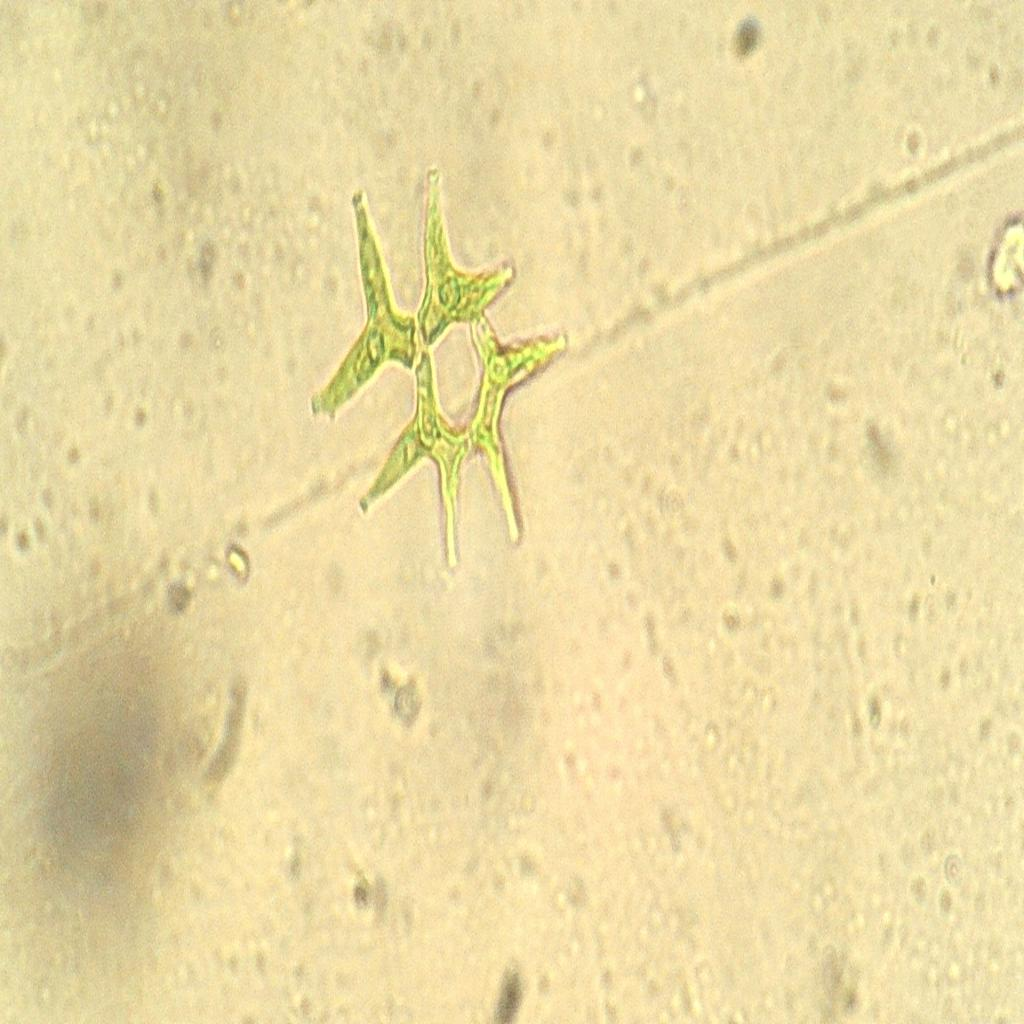Pediastrum_75FI: (301, 159, 589, 585)
